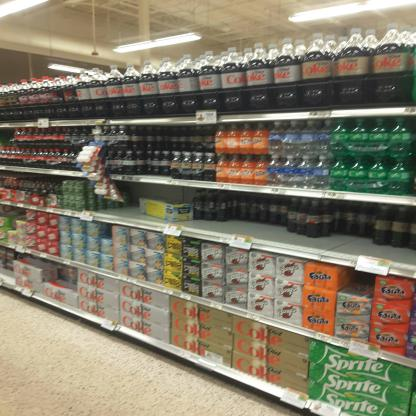Void: (198, 218, 284, 238), (333, 237, 411, 258), (340, 270, 371, 298), (47, 266, 78, 286), (146, 186, 184, 200), (106, 203, 138, 217), (99, 223, 111, 237)
